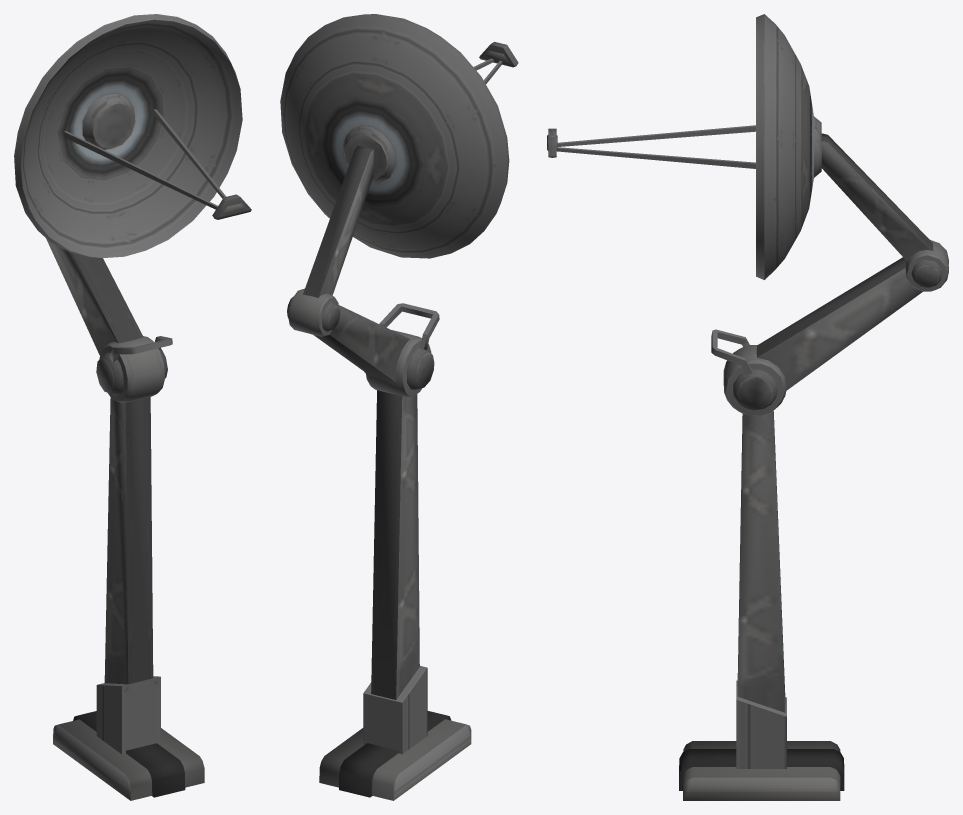
File: Prop_SatelliteDish.obj
3 renders of one model, left to right at view 1: azimuth 30°, elevation 25°; view 2: azimuth 150°, elevation 25°; view 3: azimuth 270°, elevation 25°, orthographic.
Visible parts, largest first — view 1: Prop_SatelliteDish_Cube.072; view 2: Prop_SatelliteDish_Cube.072; view 3: Prop_SatelliteDish_Cube.072.
Boxes of the visible parts, box(x1,y1,x2,y2) form: Prop_SatelliteDish_Cube.072: box(14, 14, 251, 800); Prop_SatelliteDish_Cube.072: box(280, 14, 518, 800); Prop_SatelliteDish_Cube.072: box(547, 14, 948, 800).
Bounding box in the file's own units: 1.84 × 5.8 × 2.78.
3 materials, 3 textured.
